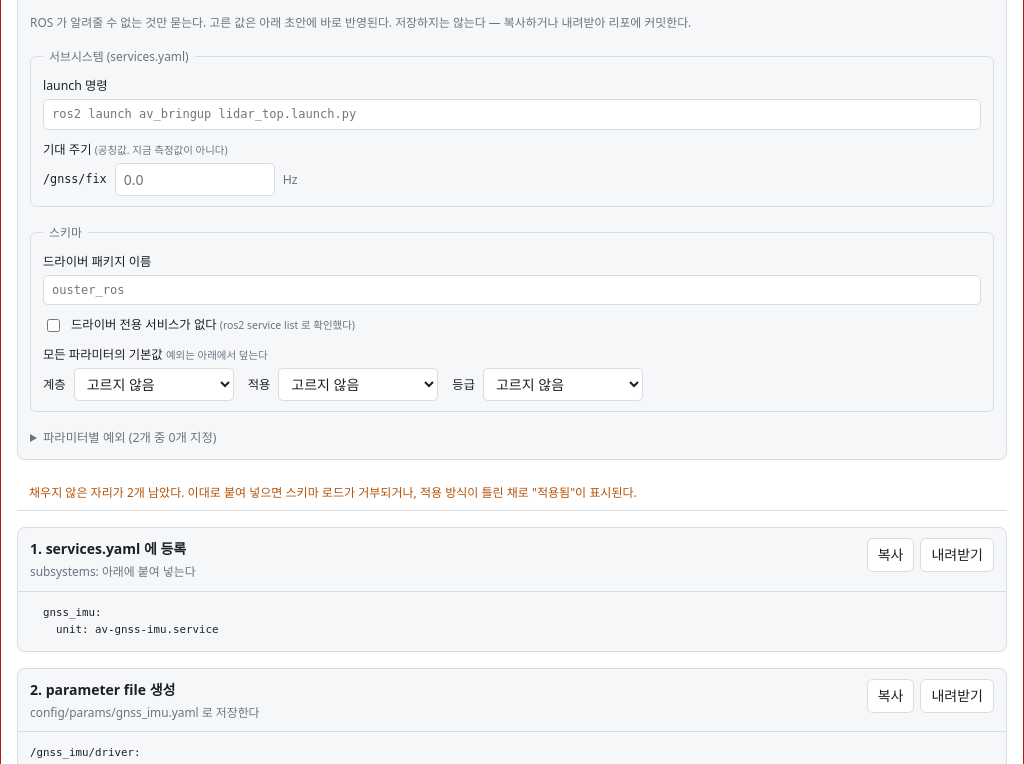
Test case: OnboardingPanel › device 계층을 고르면 조회 서비스를 묻는다
This screenshot has width=1024, height=764.
(page scrolled)
expect the field with placeholder "/ouster/get_config" is not shown: met
Select "device" in the dropdown labelled "계층" at [154, 384], box [74,368,234,401]
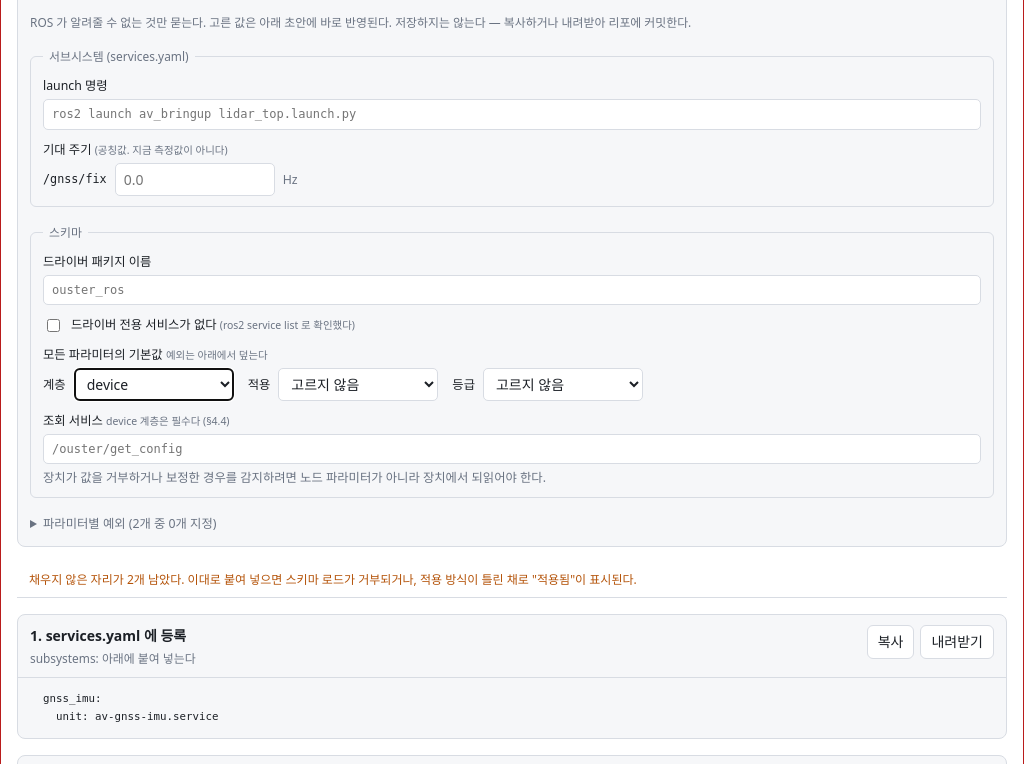
expect the field with placeholder "/ouster/get_config" is shown: met, box [43,434,981,464]
